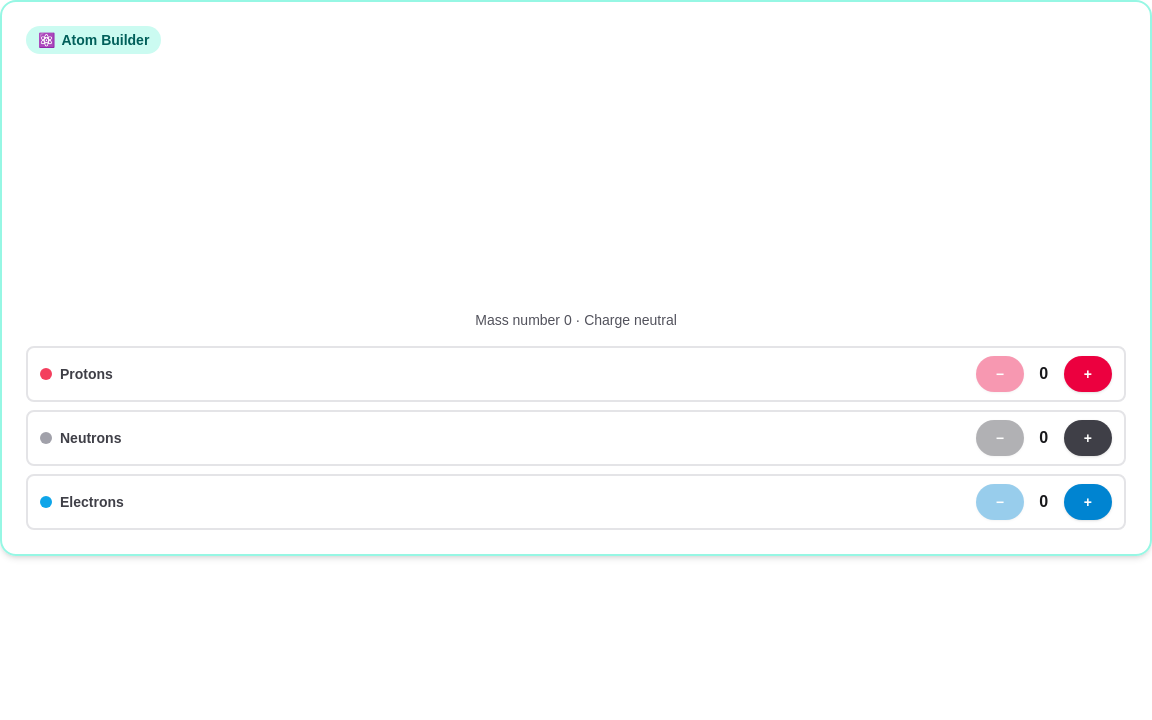
Test case: AtomBuilder › clicking + on neutrons immediately updates the count and the visual model
Click the button named "Add neutrons".
click(1088, 438)  # box [1064, 420, 1112, 456]
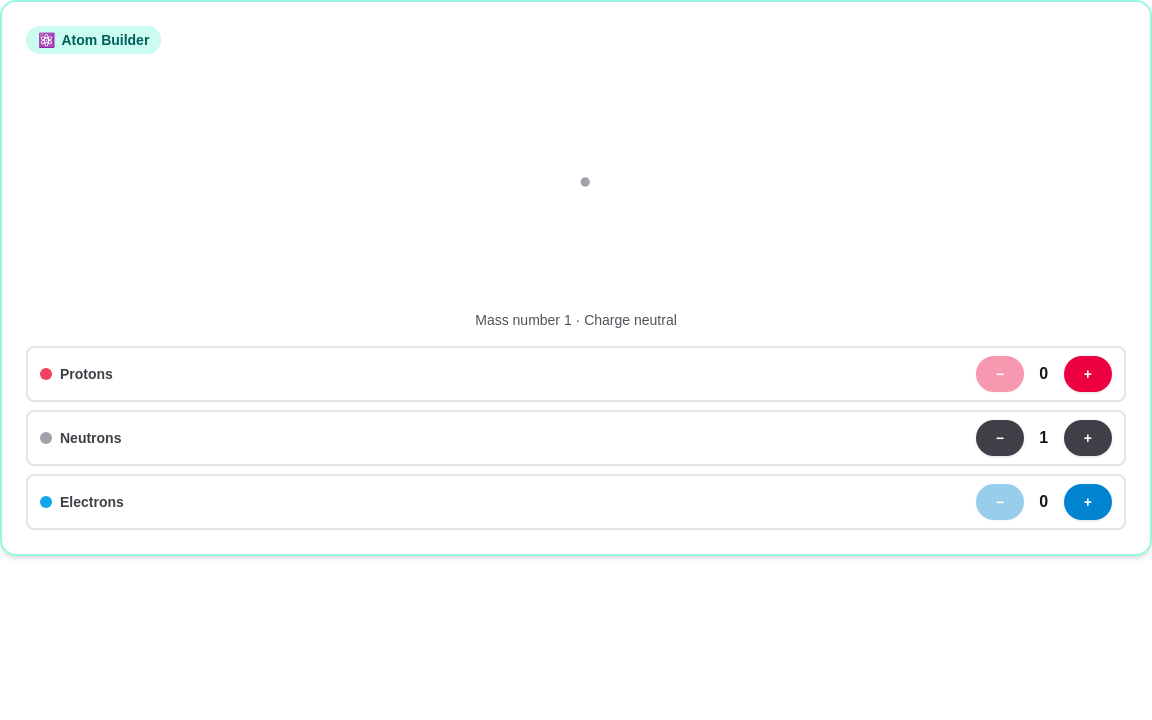
Click the button named "Add neutrons".
click(1088, 438)  # box [1064, 420, 1112, 456]
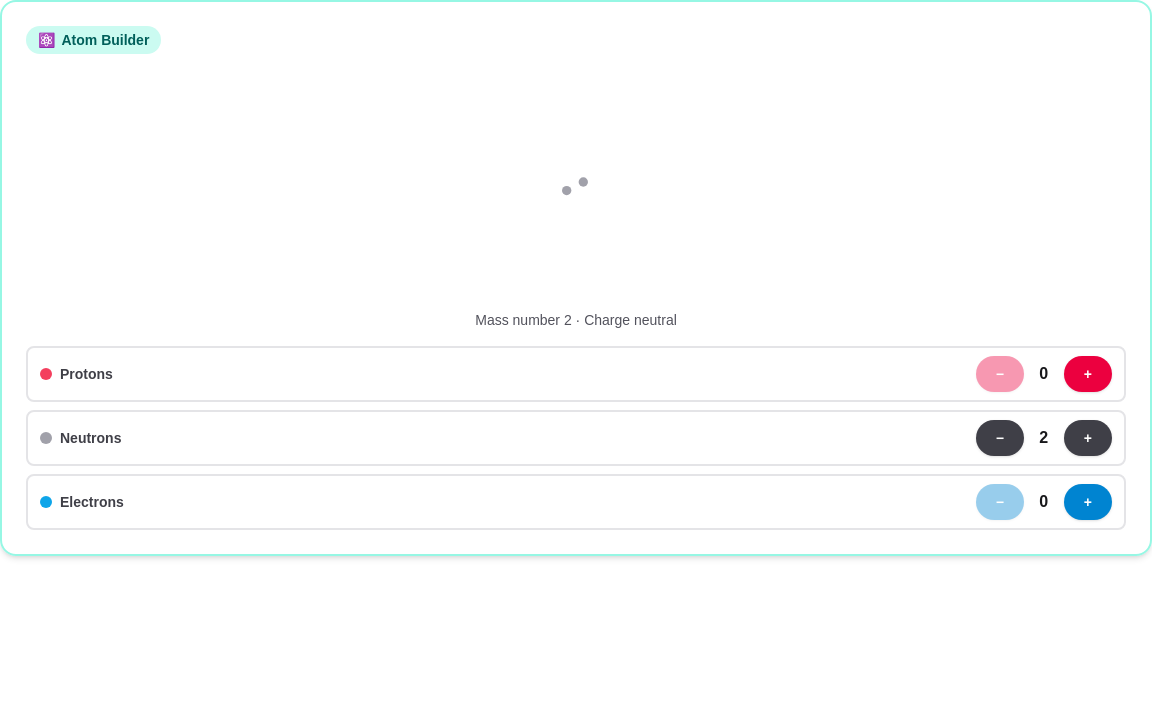
Result: the text with test id "neutrons-count" reads "2" at [1039, 429, 1048, 446]
Result: the text "Mass number 2 · Charge neutral" is shown at [475, 312, 677, 328]
